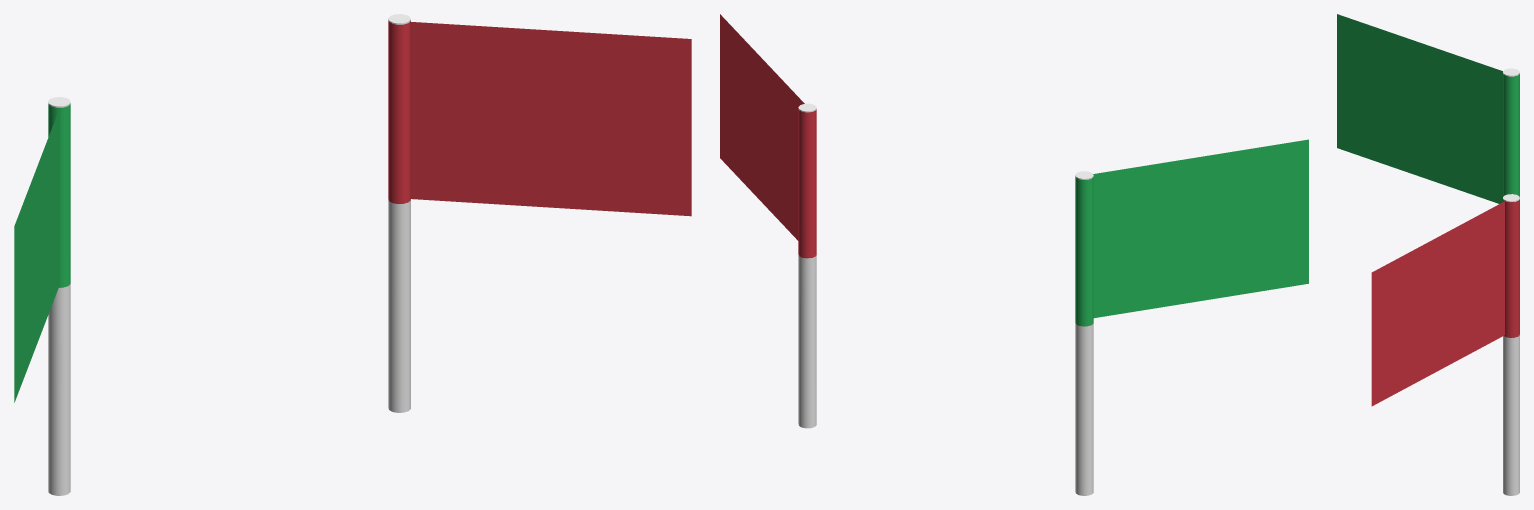
File: Flag.fbx
3 renders of one model, left to right at view 1: azimuth 30°, elevation 25°; view 2: azimuth 150°, elevation 25°; view 3: azimuth 270°, elevation 25°, orthographic. The views are drawn at different scales.
Visible parts, largest first — view 1: RedFlag_R, GreenFlag_L; view 2: GreenFlag_L, RedFlag_R; view 3: GreenFlag_L, RedFlag_R.
Boxes of the visible parts, <box> form: RedFlag_R: <box>388,14,691,412</box>; GreenFlag_L: <box>14,97,70,495</box>; GreenFlag_L: <box>1075,139,1308,495</box>; RedFlag_R: <box>720,14,816,428</box>; GreenFlag_L: <box>1337,14,1519,203</box>; RedFlag_R: <box>1371,194,1519,495</box>.
Size of the model in its own units: 53.82 by 28.6 by 16.08.
1 material, 1 textured.
